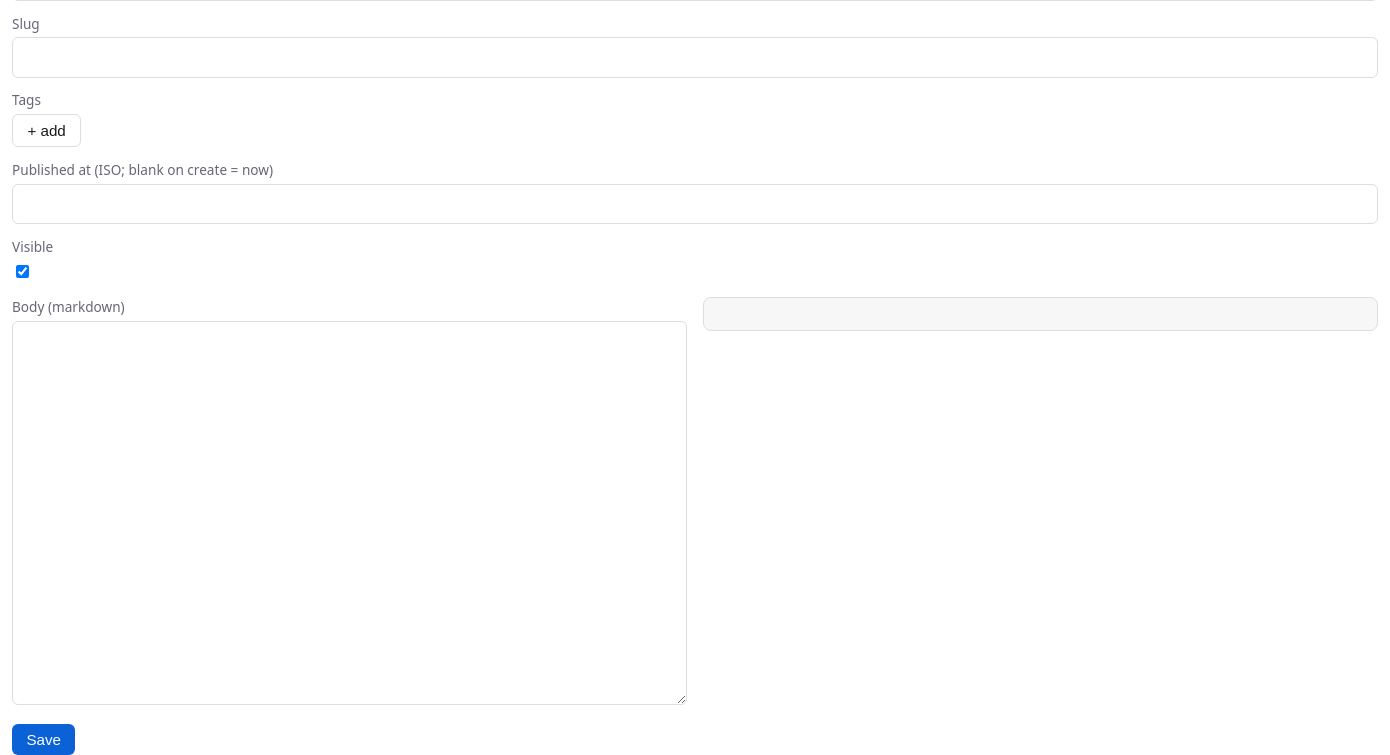
Test: post editor › live-previews markdown while typing
The width and height of the screenshot is (1390, 755).
(page scrolled)
In the text box labelled "Body (markdown)": (350,513) [12, 321, 687, 705], type "# Hello preview"
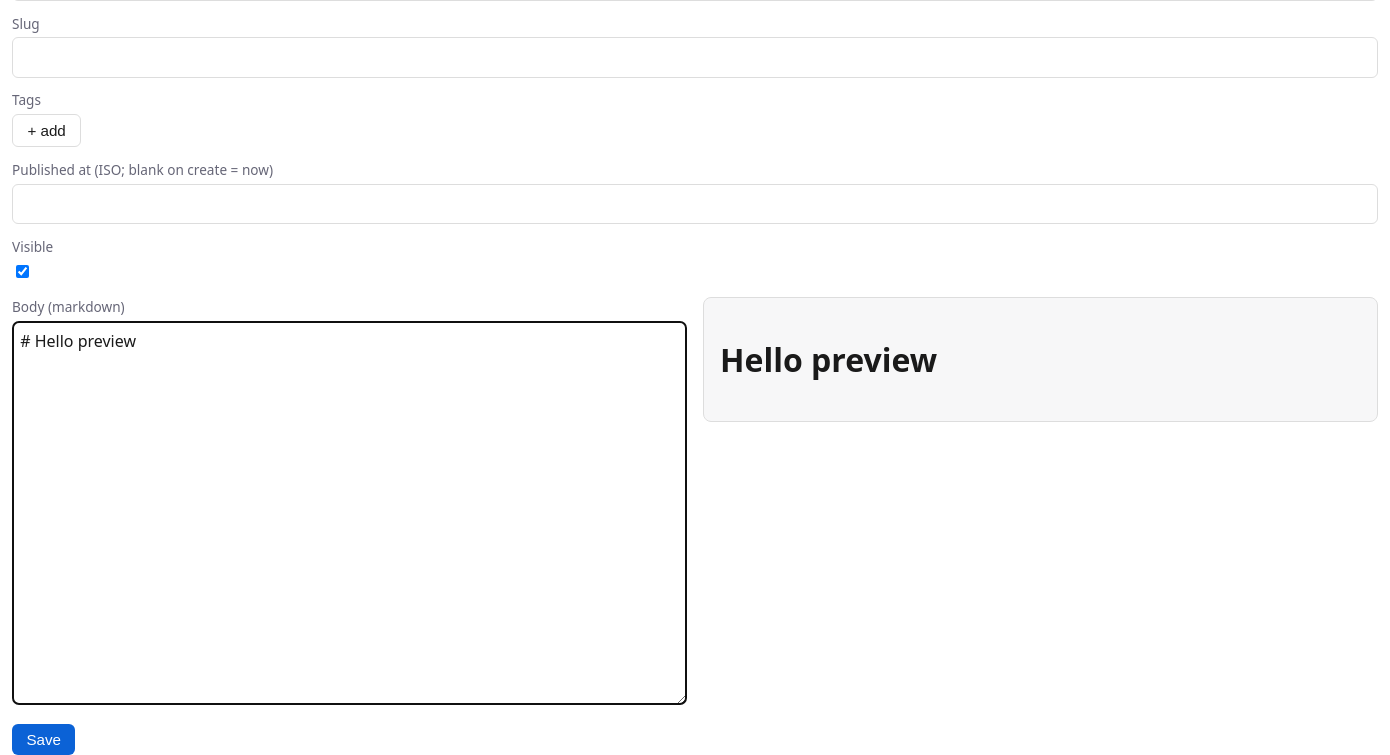
Expected: the heading "Hello preview" is shown, [720, 338, 937, 381]
